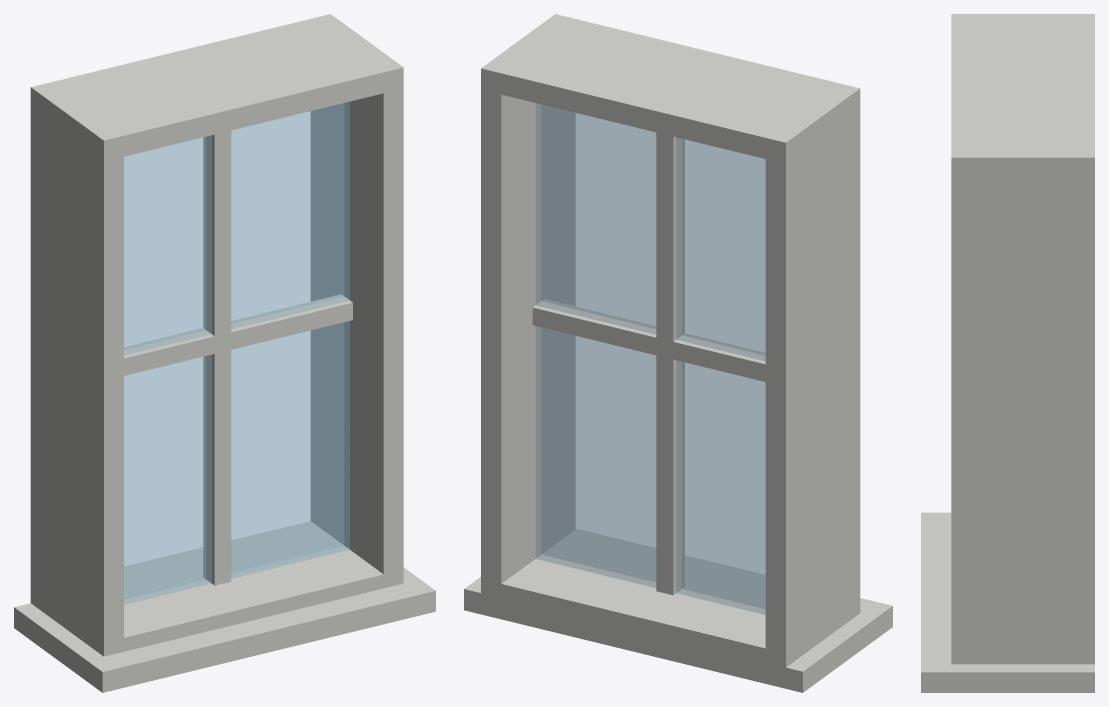
Rendered from tall_window.glb.
The picture shows the model from 3 angles, left to right: view 1: azimuth 30°, elevation 25°; view 2: azimuth 150°, elevation 25°; view 3: azimuth 270°, elevation 25°; orthographic projection. The views are drawn at different scales.
Visible parts, largest first — view 1: Glass, Frame_left, Frame_right, Frame_top, Frame_bottom, Sill, Bar_up_0, Bar_across; view 2: Glass, Frame_left, Frame_right, Frame_top, Frame_bottom, Bar_up_0, Sill, Bar_across; view 3: Frame_right, Frame_top, Sill, Frame_left.
Part boxes in pixels (x1,y1,x2,y2): Glass: (124,101,349,604); Frame_left: (30,82,123,655); Frame_right: (311,14,403,588); Frame_top: (30,14,403,160); Frame_bottom: (30,521,403,656); Sill: (14,567,435,692); Bar_up_0: (203,130,231,585); Bar_across: (124,294,352,375); Glass: (535,103,765,614); Frame_left: (765,83,860,673); Frame_right: (481,14,575,603); Frame_top: (481,14,860,163); Frame_bottom: (481,530,860,665); Bar_up_0: (656,132,684,595); Sill: (464,529,892,692); Bar_across: (532,299,765,381); Frame_right: (951,148,1094,664); Frame_top: (951,14,1094,178); Sill: (921,512,1094,692); Frame_left: (951,14,1094,23).
Size of the model in its own units: 1 by 1.54 by 0.46.
